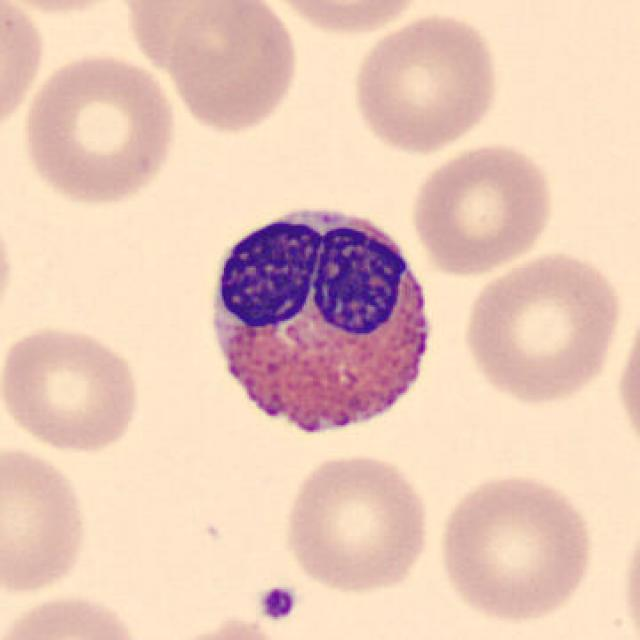Eosinophil: (194, 189, 450, 462)
Platelets: (256, 582, 300, 624)
RBC: (457, 247, 626, 407), (16, 48, 181, 210), (432, 469, 599, 626), (347, 9, 505, 157), (279, 450, 436, 596), (407, 139, 558, 277), (0, 321, 148, 457), (162, 2, 302, 138), (0, 440, 92, 599), (117, 2, 265, 76), (0, 589, 148, 640), (0, 0, 48, 143), (260, 0, 432, 39), (611, 289, 640, 463), (152, 613, 302, 640), (618, 502, 640, 639), (0, 196, 20, 340), (0, 0, 139, 16)
